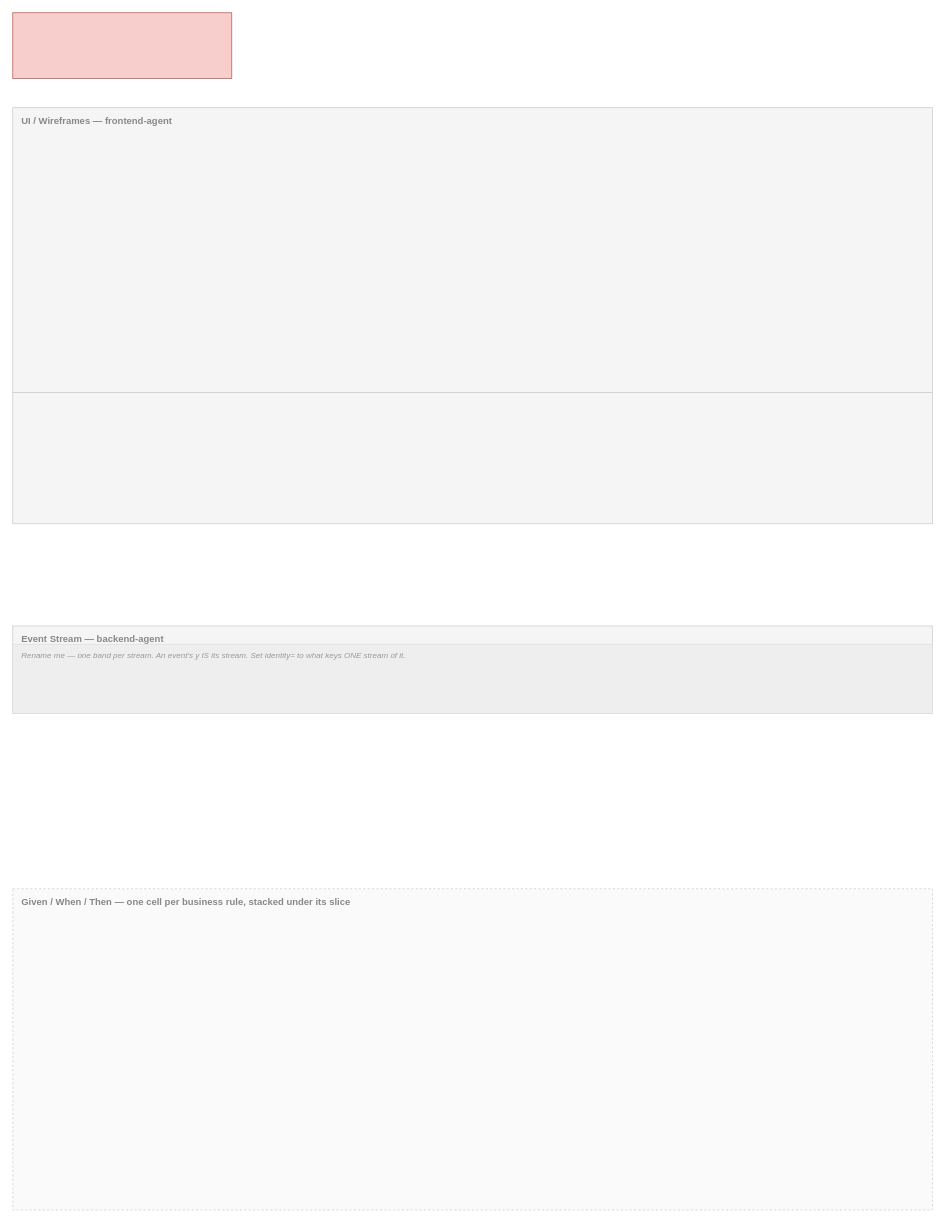
Image size: 945x1223. Some labels were removed from this diagram. Here are the shapes that lost their labels. From the top down, the centre of each, then its label:
At (122,45): "Rename me system · context".
At (472,458): "Commands / Views / Automation — backend-agent".
